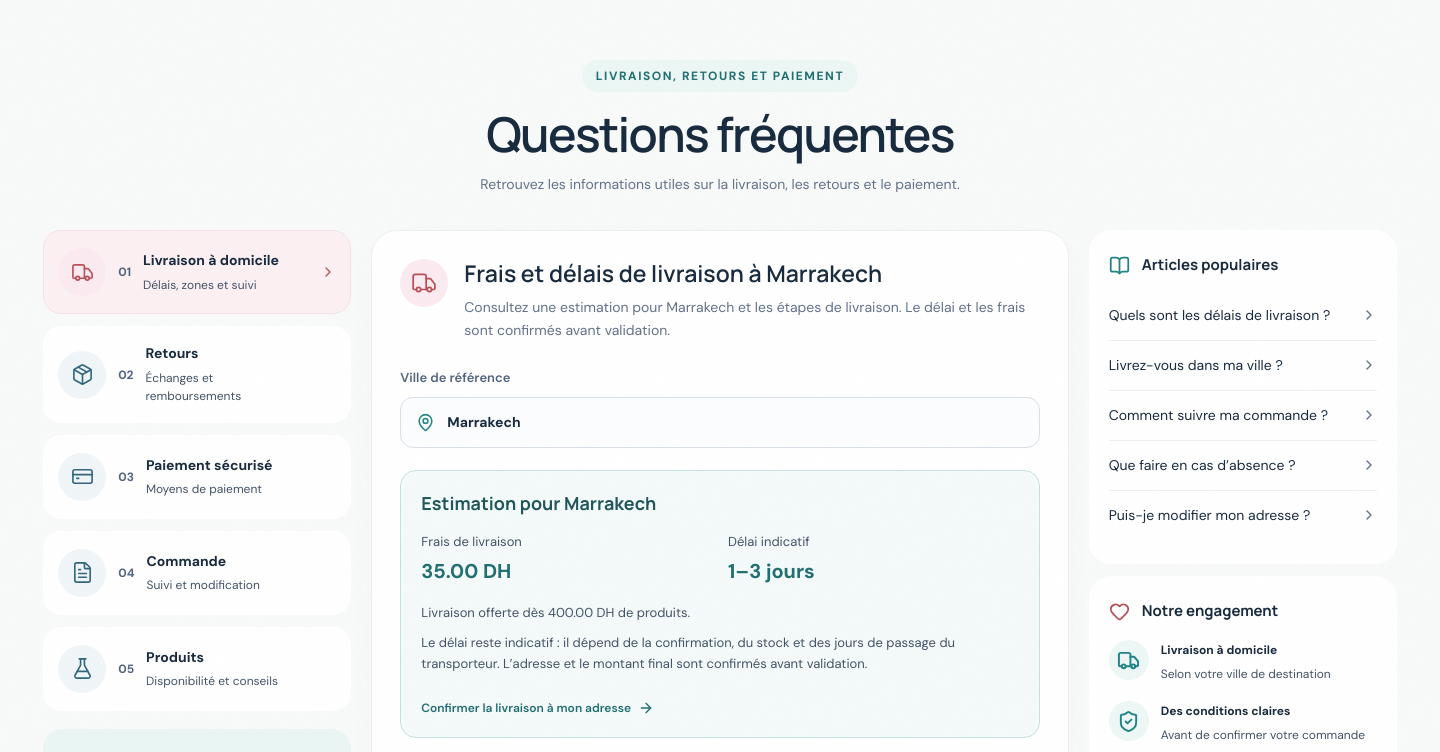
Test: Interactive FAQ redesign › switches all help topics and returns to the Marrakech estimate
Step 1. Click the button "04 Commande Suivi et modification" → point(82, 573), box [43, 531, 351, 615]
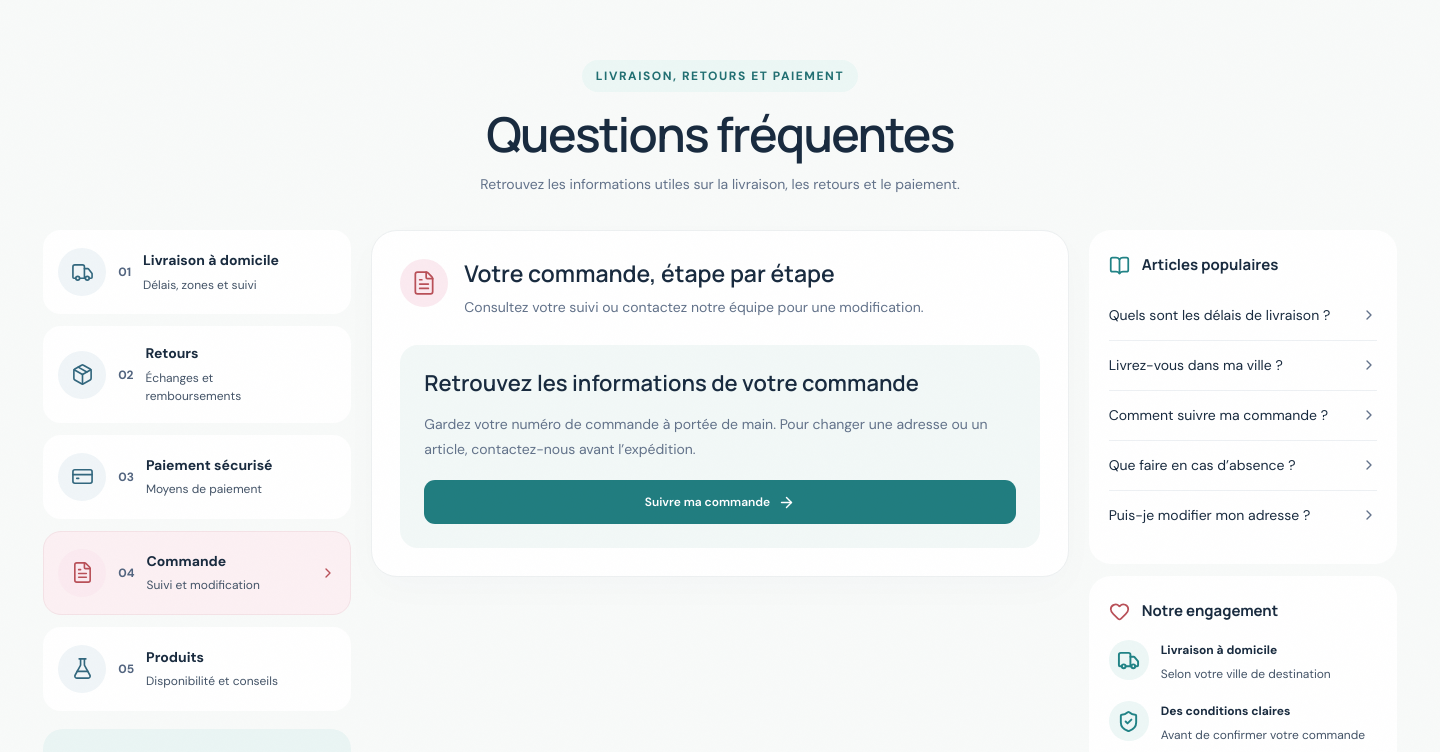
Step 2. Click the button "05 Produits Disponibilité et conseils" → point(82, 669), box [43, 627, 351, 711]
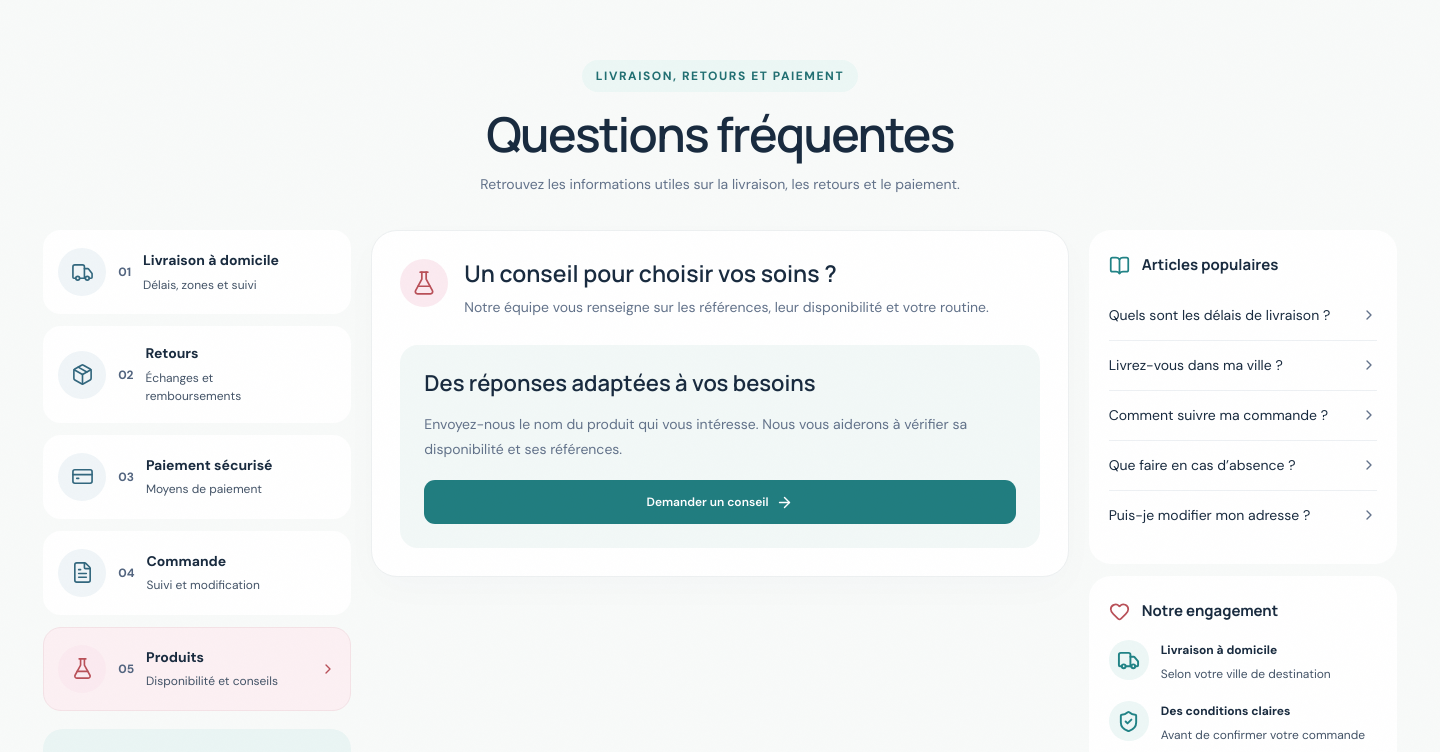
Step 3. Click the button "01 Livraison à domicile Délais, zones et suivi" → point(82, 272), box [43, 230, 351, 314]
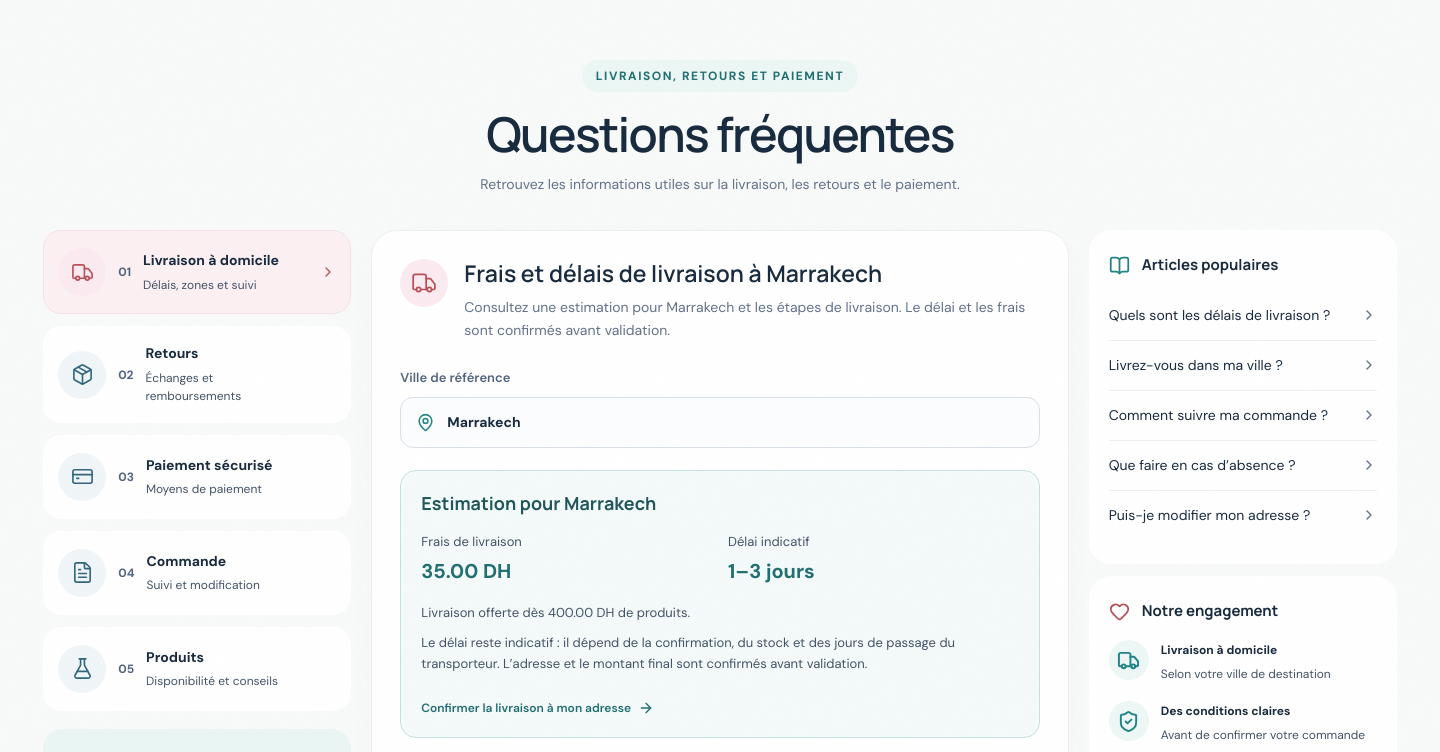
Expected: the heading "Estimation pour Marrakech" is shown, [421, 491, 656, 515]
